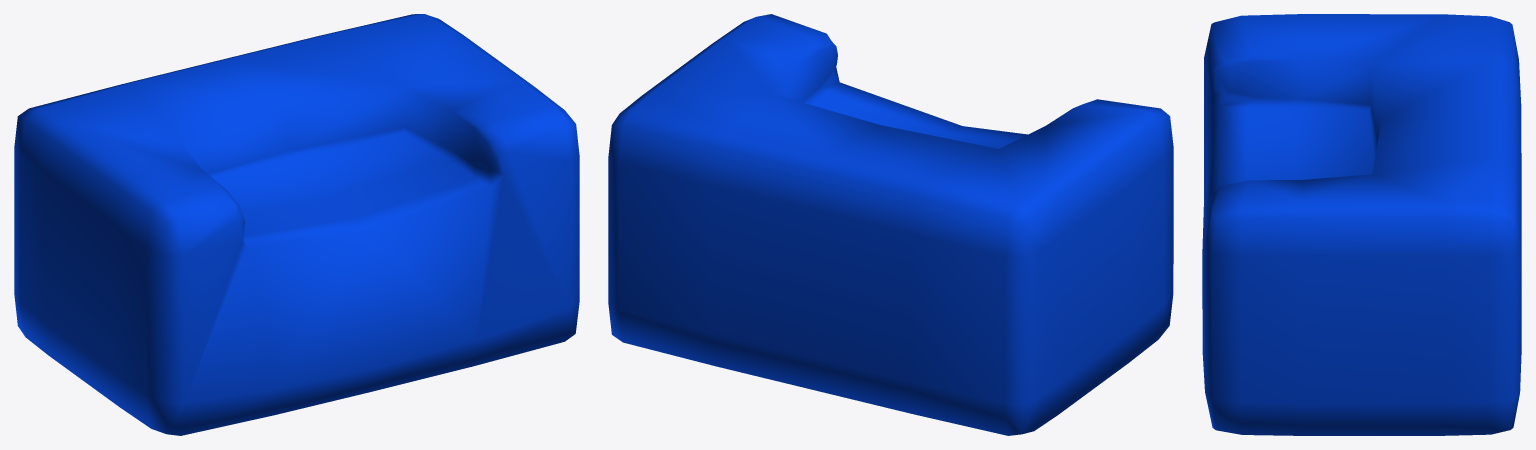
The model's file is sillon_uv.fbx.
3 views of the same model, side by side, from view 1: azimuth 30°, elevation 25°; view 2: azimuth 150°, elevation 25°; view 3: azimuth 270°, elevation 25° (orthographic).
Parts seen in each view (by area): view 1: sillon; view 2: sillon; view 3: sillon.
Part boxes in pixels (<box>): sillon: <box>14,14,579,435</box>; sillon: <box>608,14,1173,435</box>; sillon: <box>1202,14,1521,435</box>.
Size of the model in its own units: 116 by 61.53 by 75.53.
